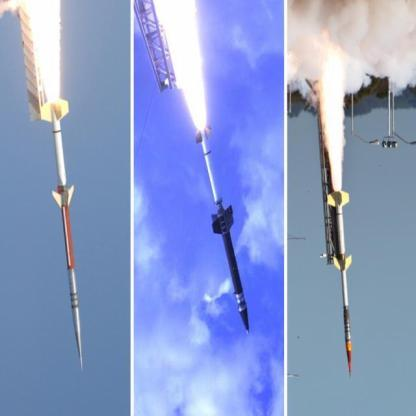MIL_TBM: (41, 97, 89, 374), (206, 200, 258, 334), (324, 183, 356, 382), (39, 94, 75, 190), (192, 124, 229, 206)
